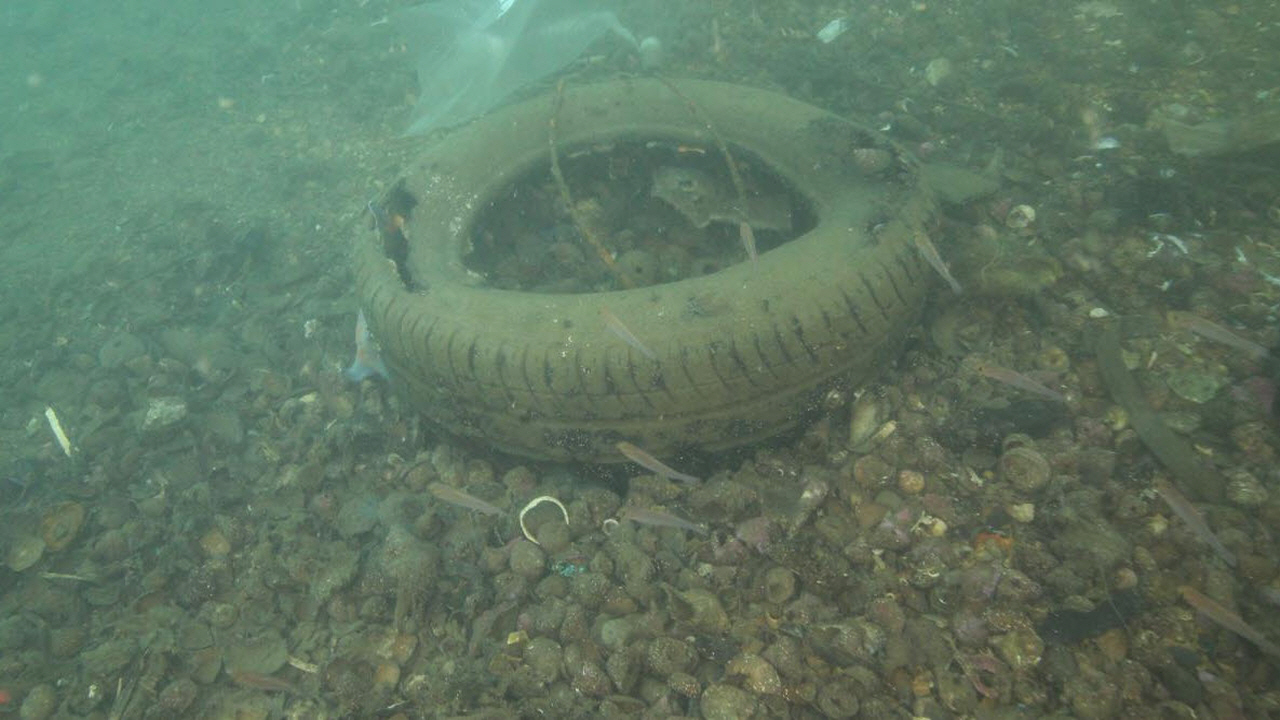tire: (347, 77, 946, 464)
